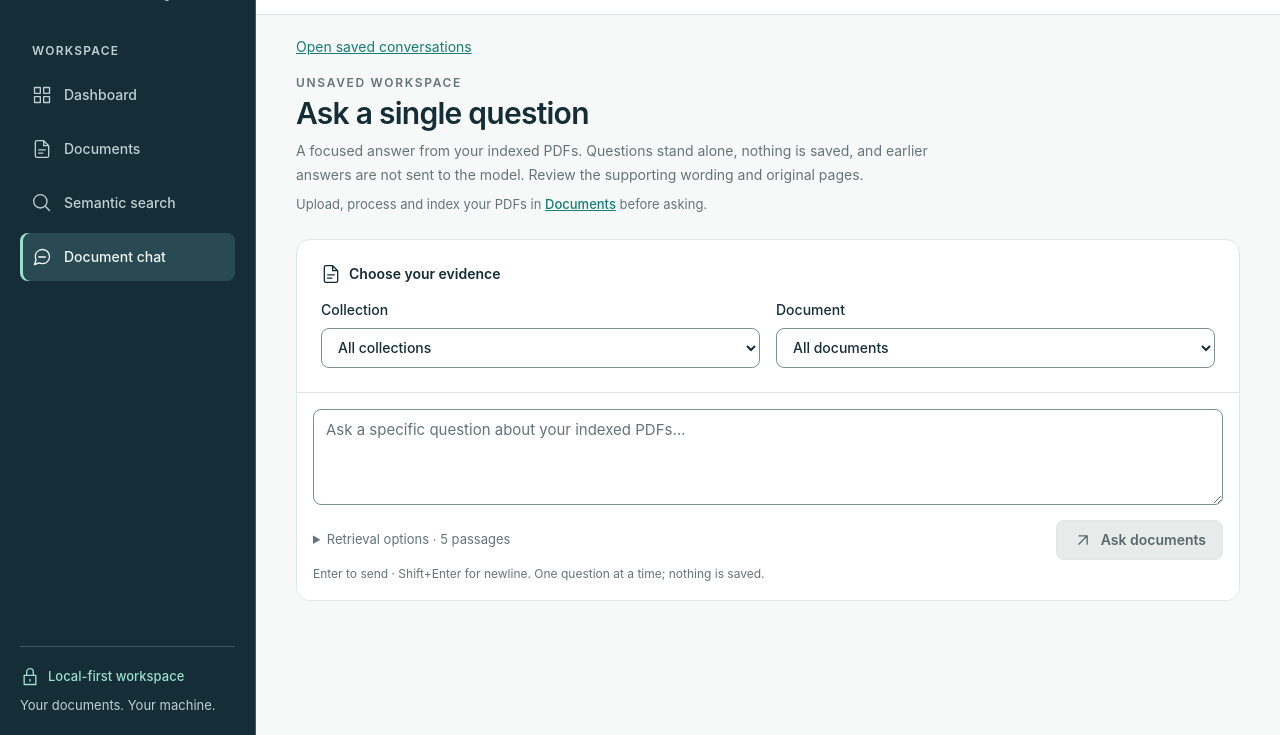
Document chat › shows errors and permits another independent question
Type "How long are backups retained?" into the text box named "Your question".
click(768, 456); type("How long are backups retained?")  # box [313, 408, 1223, 504]
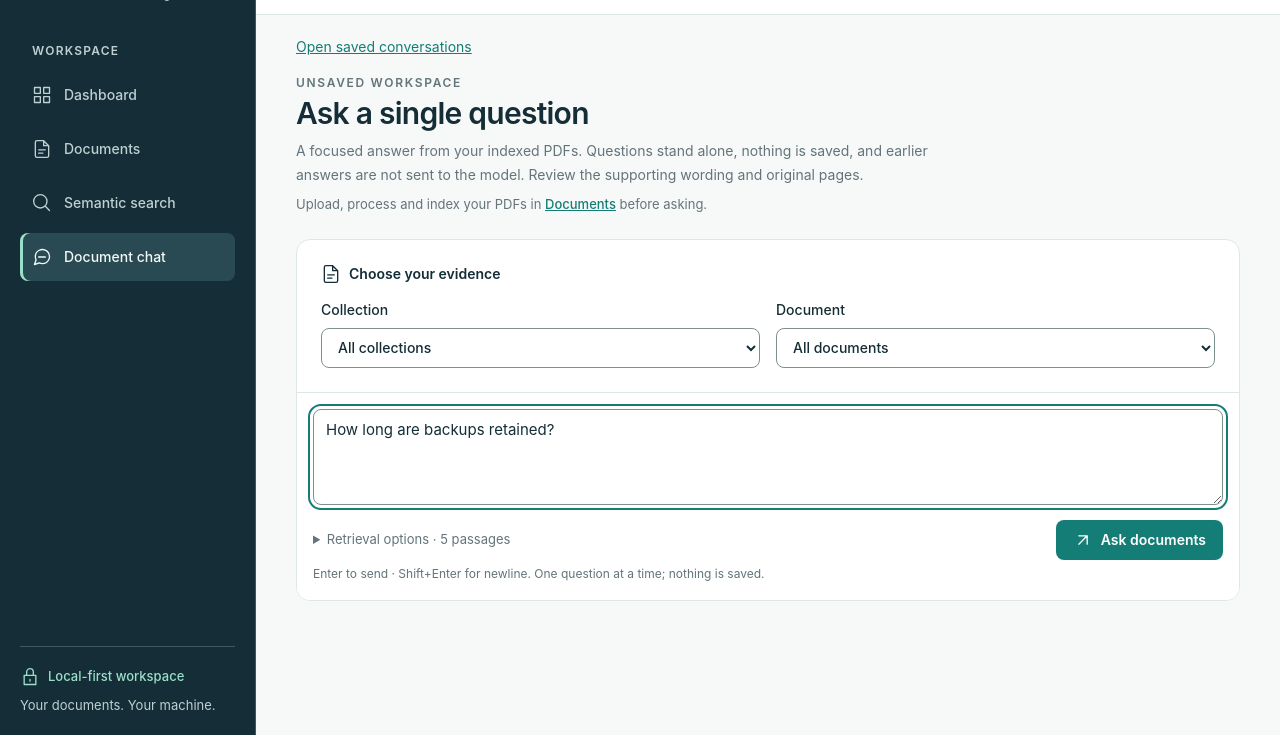
Click the button "Ask documents".
click(1139, 540)  # box [1056, 520, 1223, 560]
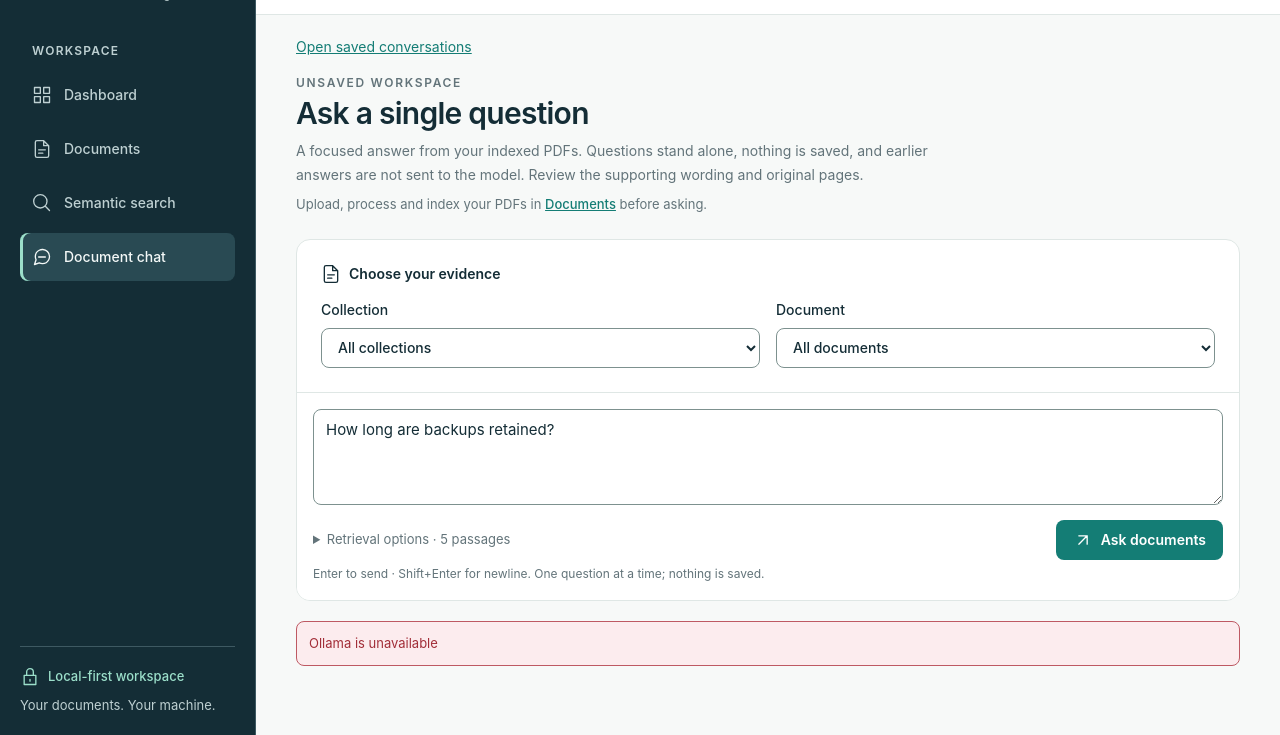
expect the message reads "Ollama is unavailable": met, box [309, 634, 438, 650]
Replace the text in the text box named "Your question" with "Try another question" at (768, 456), box [313, 408, 1223, 504]
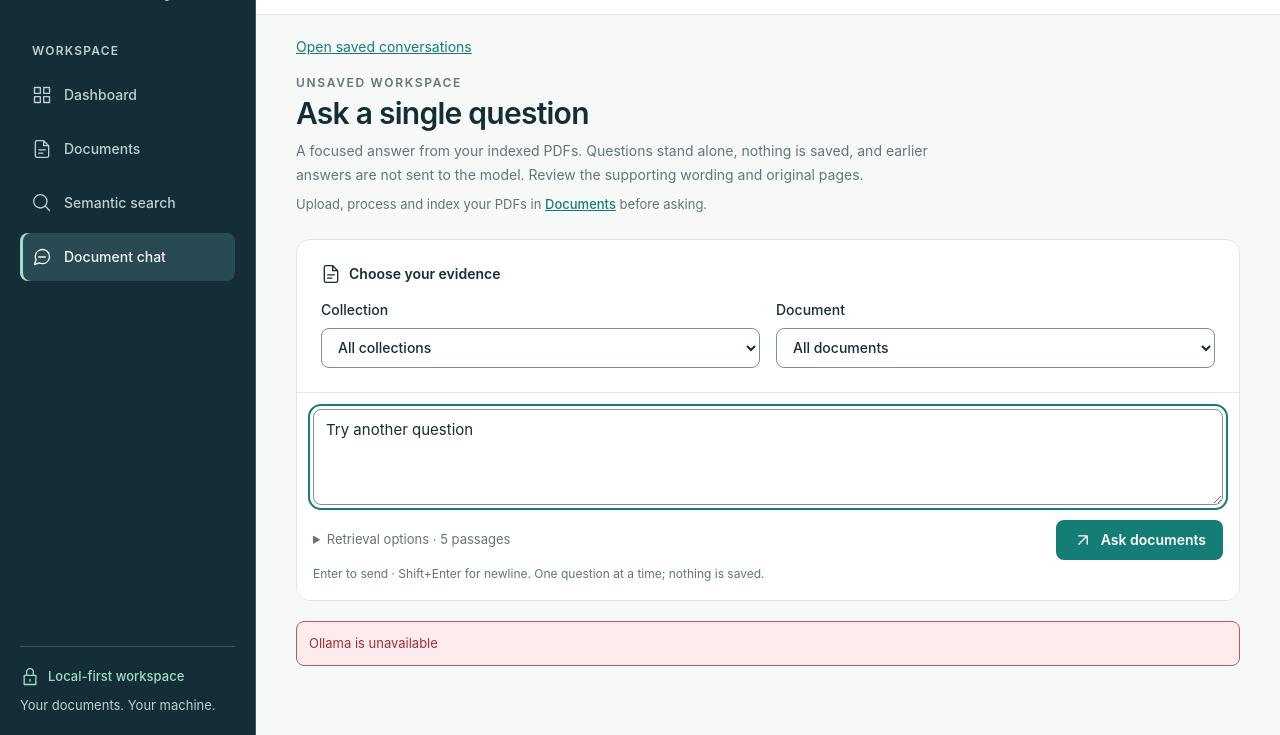
Click the button "Ask documents".
click(1139, 540)  # box [1056, 520, 1223, 560]
(page scrolled)
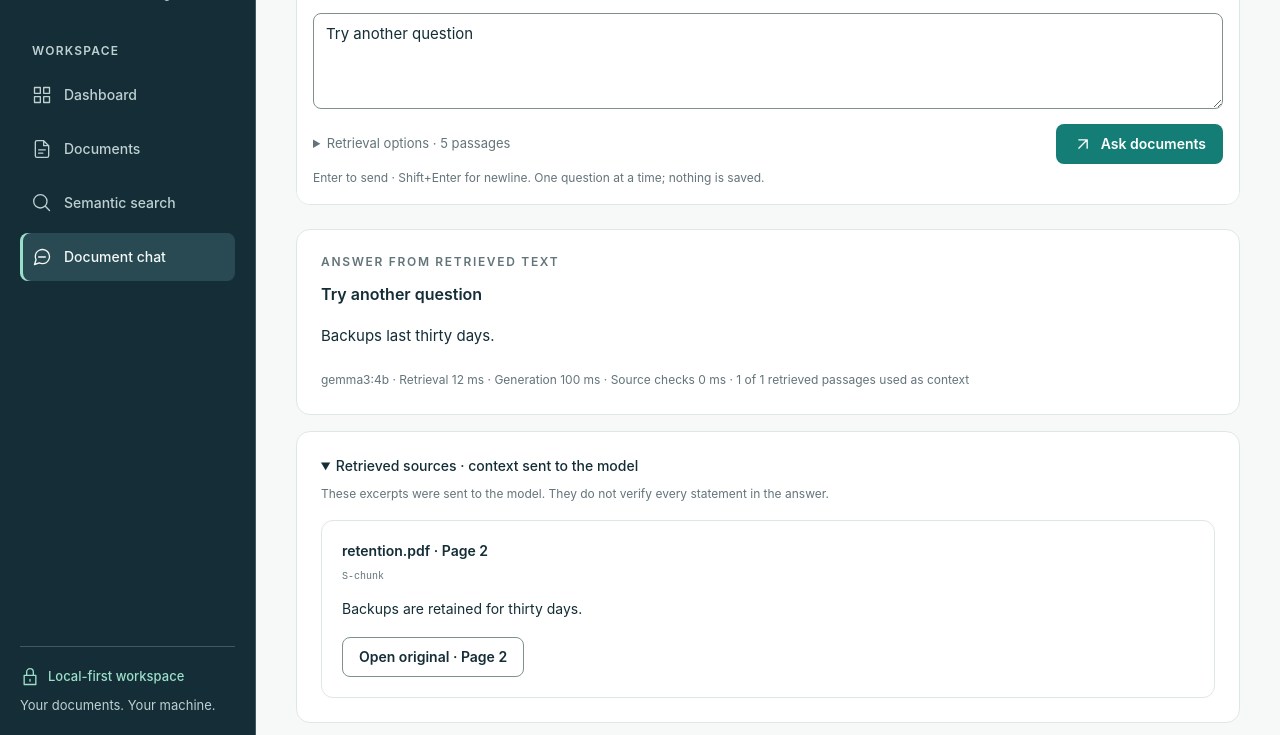
expect the text "Backups last thirty days." is shown: met, box [321, 326, 494, 344]
expect the message "Ollama is unavailable" is gone: met
